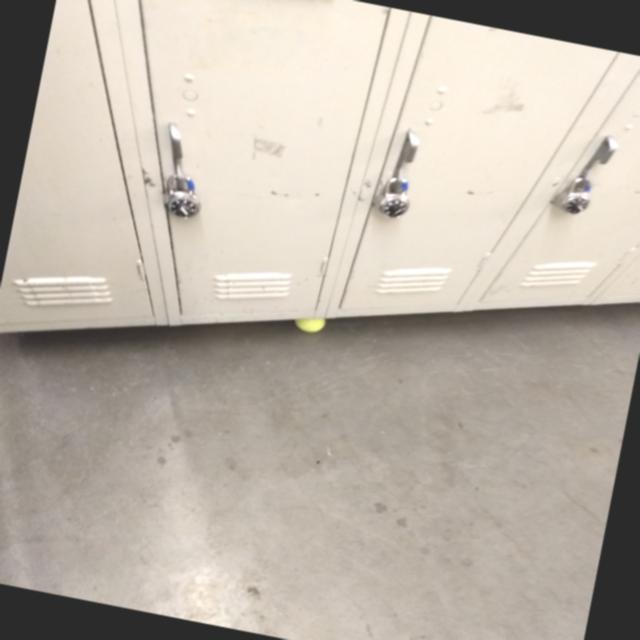tennis-ball: (292, 314, 328, 336)
